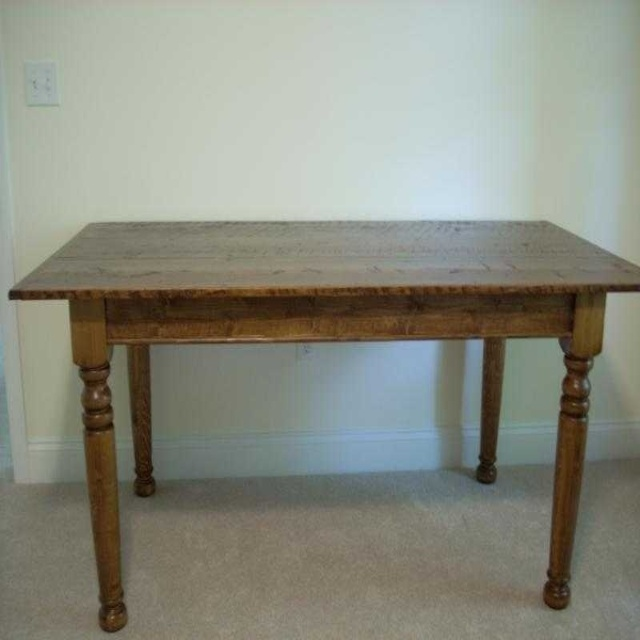obstacle: (9, 221, 639, 630)
